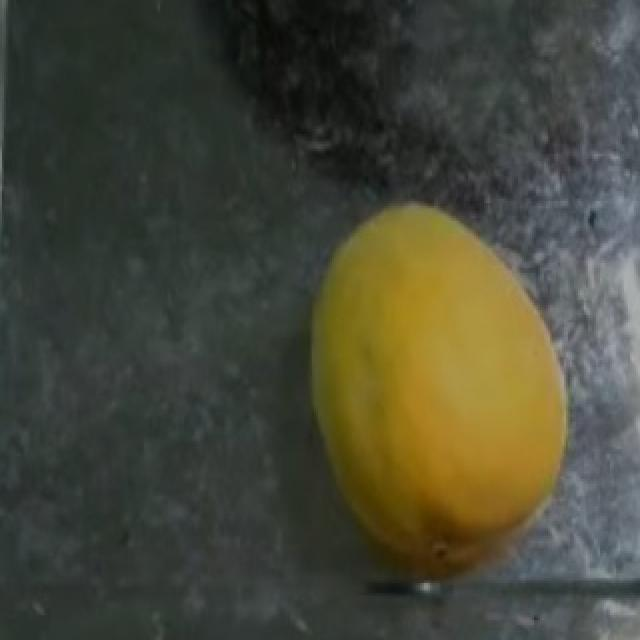fruit: (254, 171, 618, 563)
